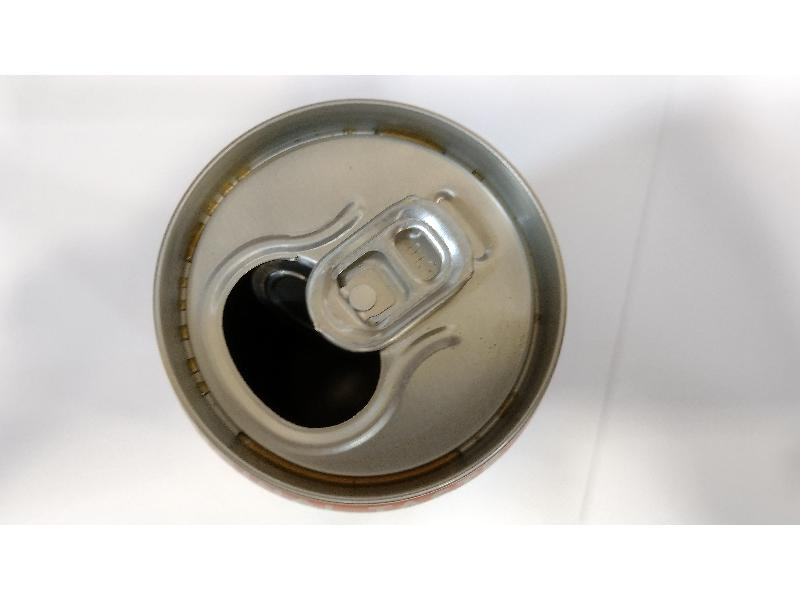can: (139, 87, 592, 526)
